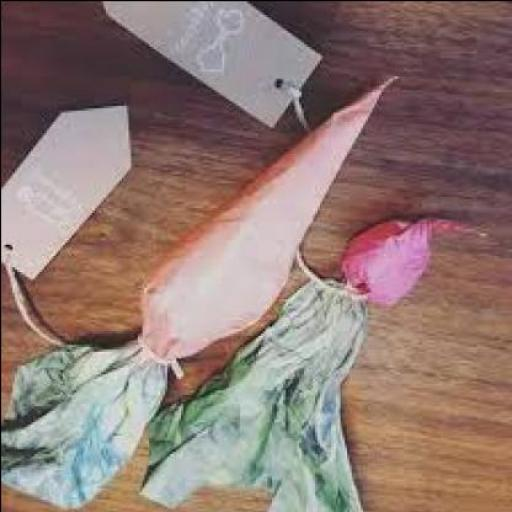paper: (139, 75, 400, 364), (142, 284, 372, 511), (2, 339, 173, 511), (102, 2, 324, 132), (3, 104, 134, 282), (339, 218, 489, 310)
